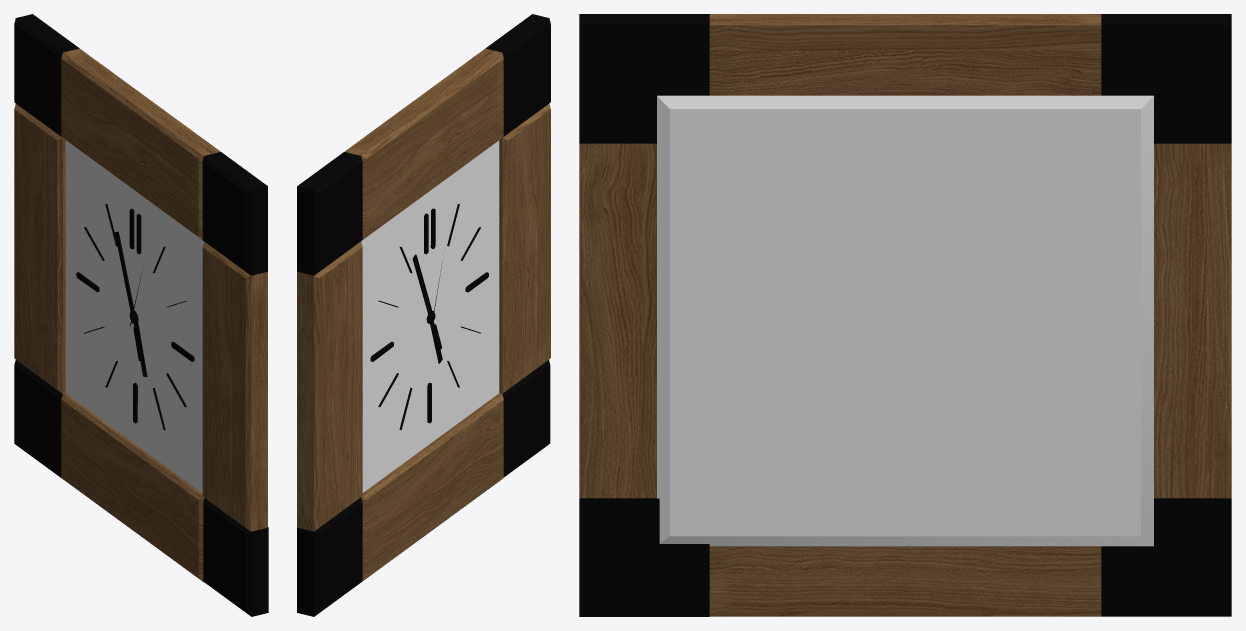
The model's file is Clock.FBX.
3 views of the same model, side by side, from view 1: azimuth 30°, elevation 25°; view 2: azimuth 150°, elevation 25°; view 3: azimuth 270°, elevation 25° (orthographic). The views are drawn at different scales.
Visible parts, largest first — view 1: Clock; view 2: Clock; view 3: Clock.
Boxes of the visible parts, x1,y1,x2,y2 form: Clock: (14, 14, 268, 616); Clock: (297, 14, 550, 616); Clock: (579, 14, 1231, 616).
Bounding box in the file's own units: 1.67 × 30 × 30.
1 material, 1 textured.
